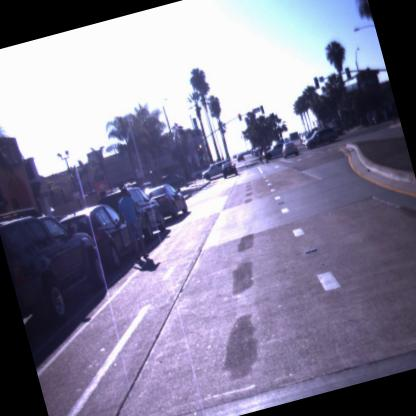trafficlight: (197, 146, 202, 156), (237, 112, 242, 121)
